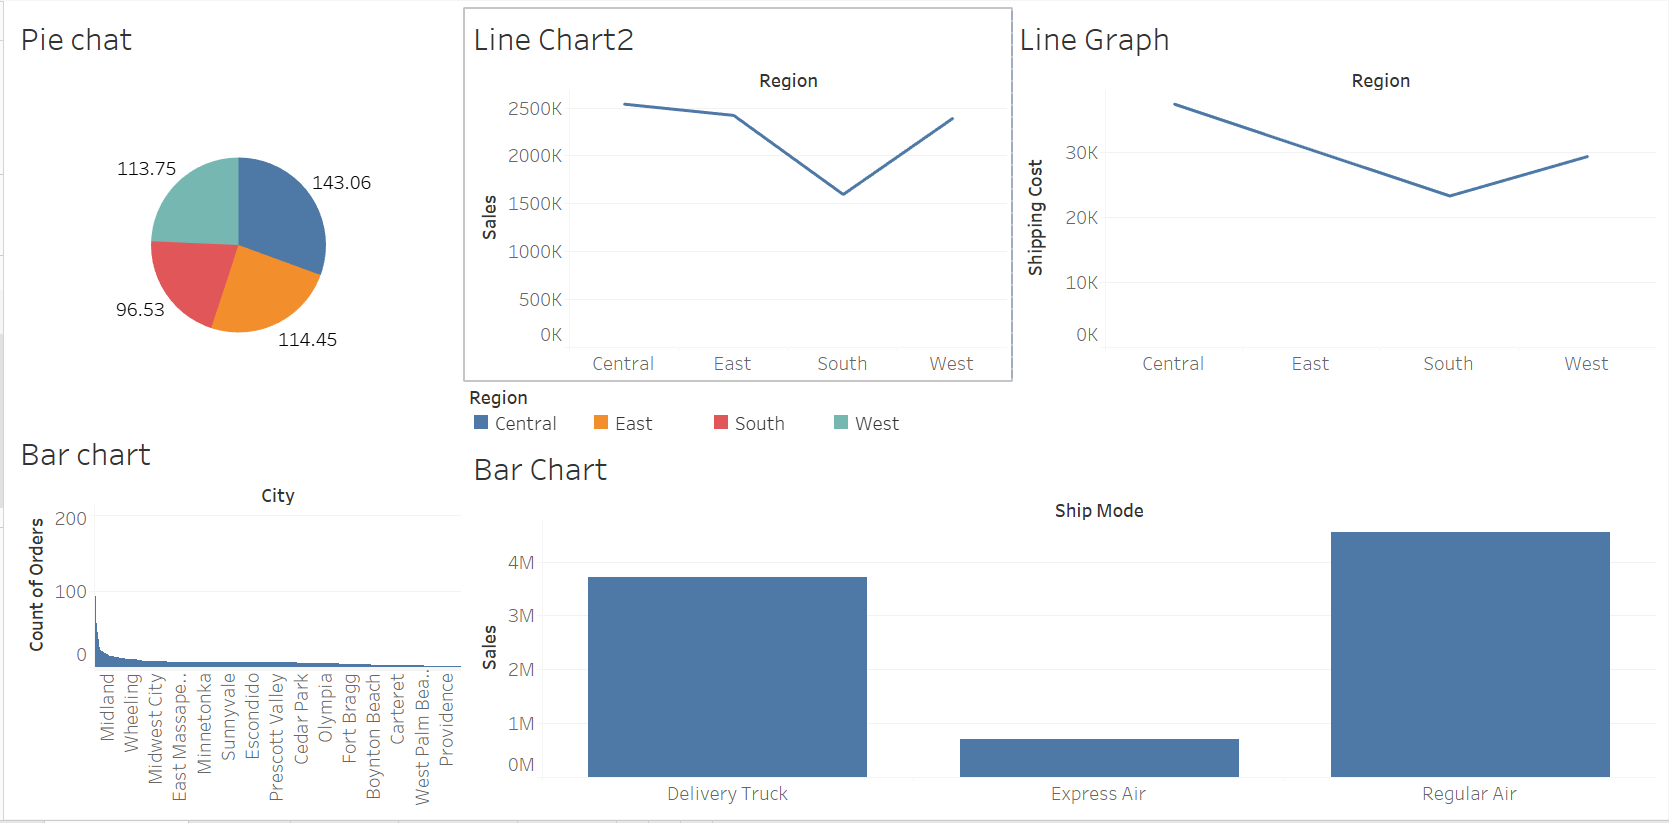

This screenshot's page, from the dashboard's own definition file:
{"tool":"powerbi","page":{"name":"Demo DashBoard","canvas":[1280,720],"ordinal":0},"visuals":[{"type":"donutChart","fields":{"Category":["Orders.Region"],"Y":["Sum(Orders.Sales)"]},"box":[0,0,496,464],"z":0},{"type":"lineChart","fields":{"Category":["Orders.Region"],"Y":["Sum(Orders.Shipping Cost)"]},"box":[0,496,640,224],"z":1000},{"type":"clusteredColumnChart","fields":{"Y":["Sum(Orders.Sales)"],"Category":["Orders.Ship Mode"]},"box":[528,0,288,464],"z":2000},{"type":"clusteredColumnChart","fields":{"Y":["Sum(Orders.Unit Price)"],"Category":["Orders.State or Province"]},"box":[832,0,448,224],"z":3000},{"type":"lineChart","fields":{"Category":["Orders.Region"],"Y":["Sum(Orders.Sales)"]},"box":[688,496,592,224],"z":4000},{"type":"card","fields":{"Values":["Sum(Orders.Profit)"]},"box":[832,240,448,112],"z":5000},{"type":"card","fields":{"Values":["Sum(Orders.Discount)"]},"box":[1072,352,208,112],"z":6000},{"type":"card","fields":{"Values":["Sum(Orders.Sales)"]},"box":[832,352,192,112],"z":7000}]}

Visuals, with their boxes on the page's 1280x720 design canvas (x1, y1, x2, y2). These are canvas units, not pixel positions in the 1669x823 screenshot, which may show the page scaled, cropped or inside an application window:
donutChart - Orders.Region x Sum(Orders.Sales): 0/0/496/464
lineChart - Orders.Region x Sum(Orders.Shipping Cost): 0/496/640/720
clusteredColumnChart - Sum(Orders.Sales) x Orders.Ship Mode: 528/0/816/464
clusteredColumnChart - Sum(Orders.Unit Price) x Orders.State or Province: 832/0/1280/224
lineChart - Orders.Region x Sum(Orders.Sales): 688/496/1280/720
card - Sum(Orders.Profit): 832/240/1280/352
card - Sum(Orders.Discount): 1072/352/1280/464
card - Sum(Orders.Sales): 832/352/1024/464
